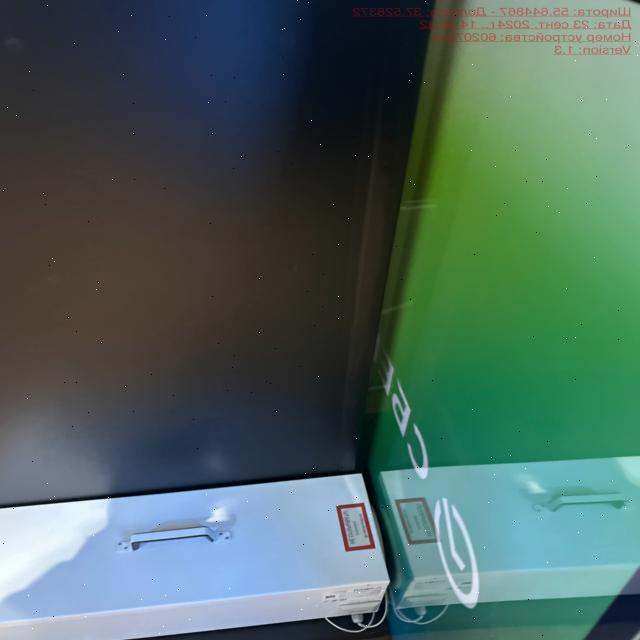bank: (368, 0, 640, 640)
